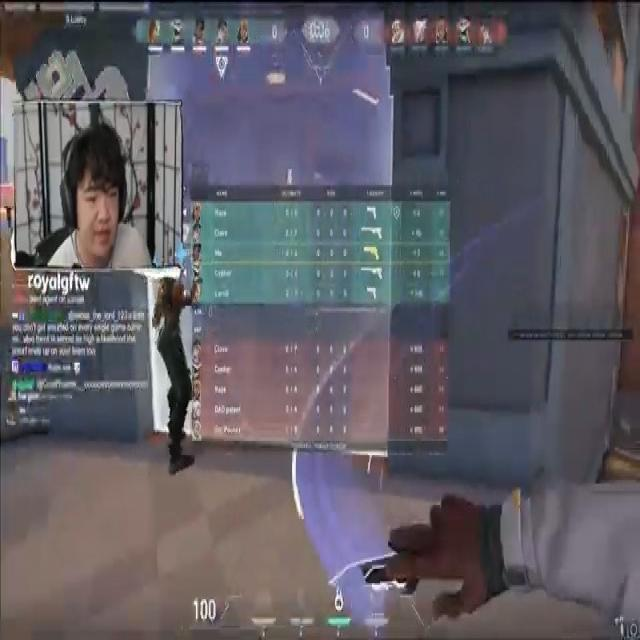ally: (147, 262, 198, 470)
